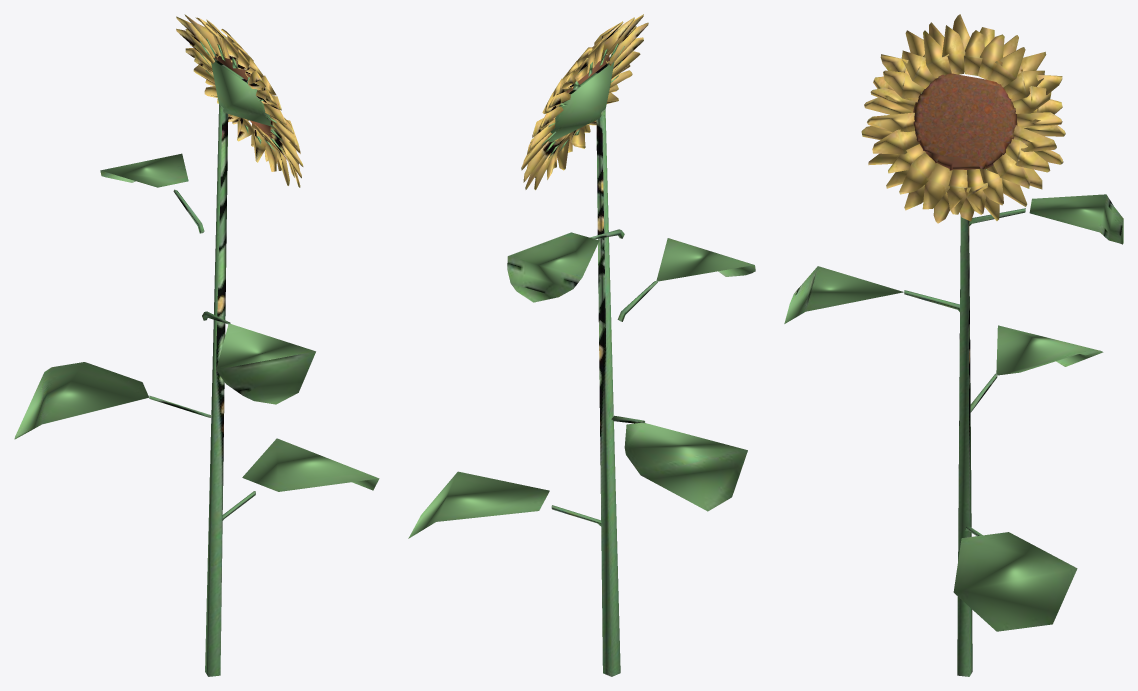
The model's file is sunflower.glb.
3 views of the same model, side by side, from view 1: azimuth 30°, elevation 25°; view 2: azimuth 150°, elevation 25°; view 3: azimuth 270°, elevation 25° (orthographic).
Parts seen in each view (by area): view 1: sunflower_body; view 2: sunflower_body; view 3: sunflower_body.
Part boxes in pixels (x1=…): sunflower_body: x1=14, y1=14, x2=379, y2=676; sunflower_body: x1=408, y1=14, x2=755, y2=676; sunflower_body: x1=784, y1=14, x2=1123, y2=676.
Size of the model in its own units: 0.9533 by 1.78 by 0.837.
1 material, 1 textured.
